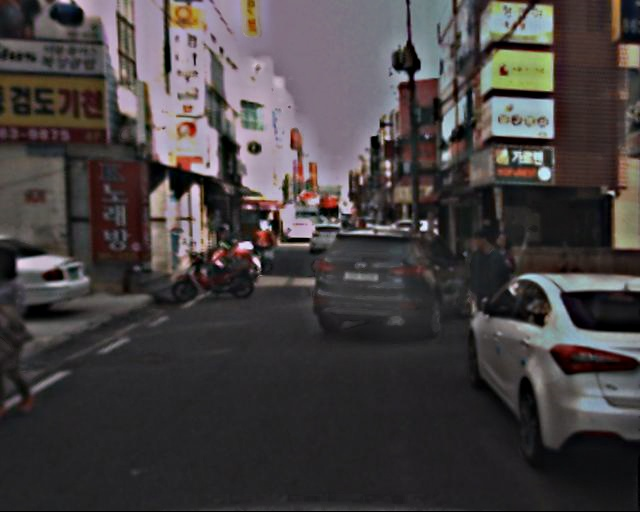person: (1, 237, 47, 403), (467, 226, 509, 348), (484, 228, 522, 335)
